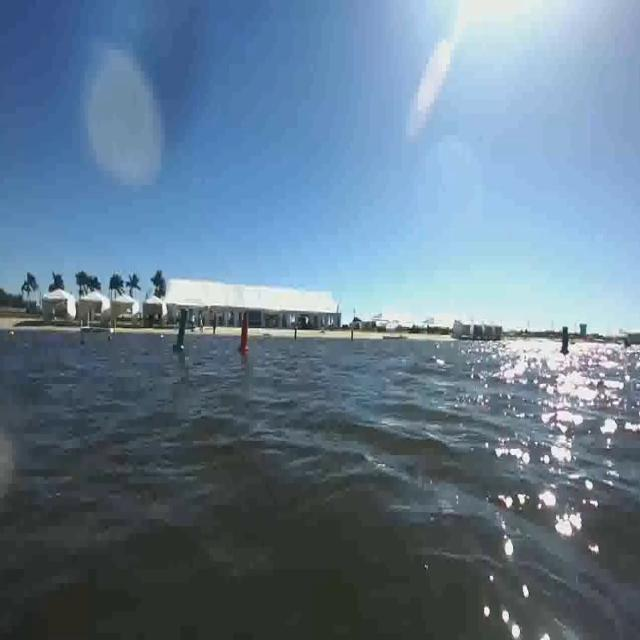green-column-buoy: (172, 308, 190, 354)
red-column-buoy: (237, 313, 249, 356)
